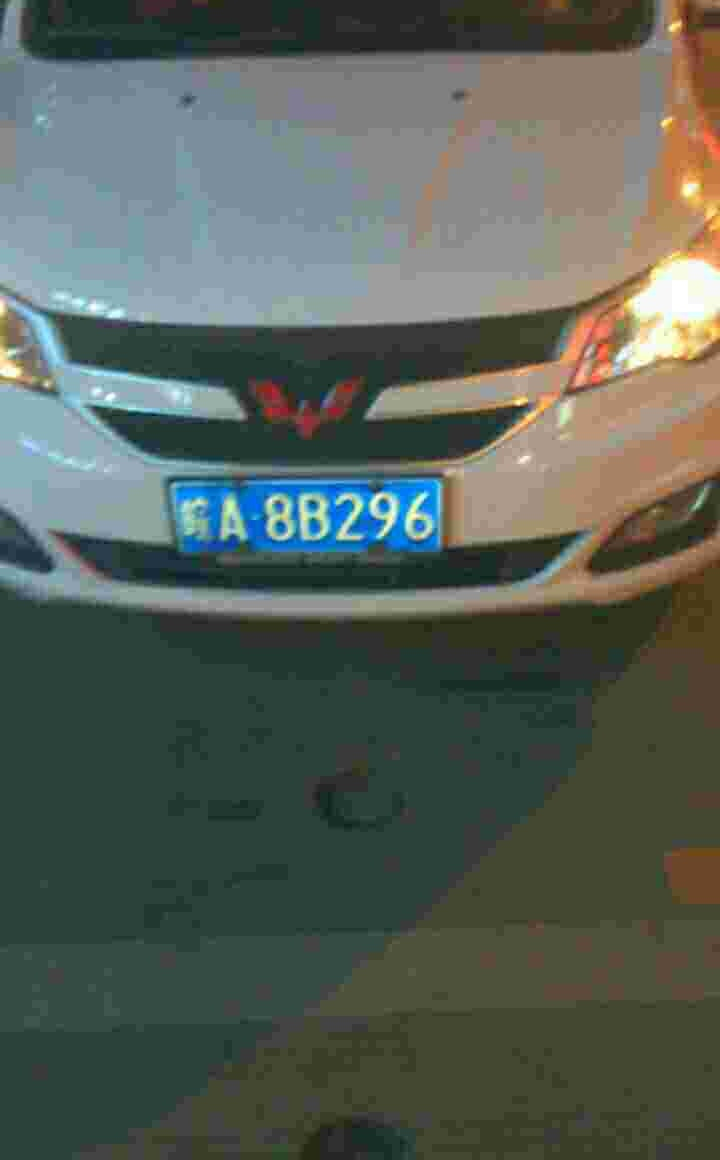plate: (174, 476, 450, 557)
